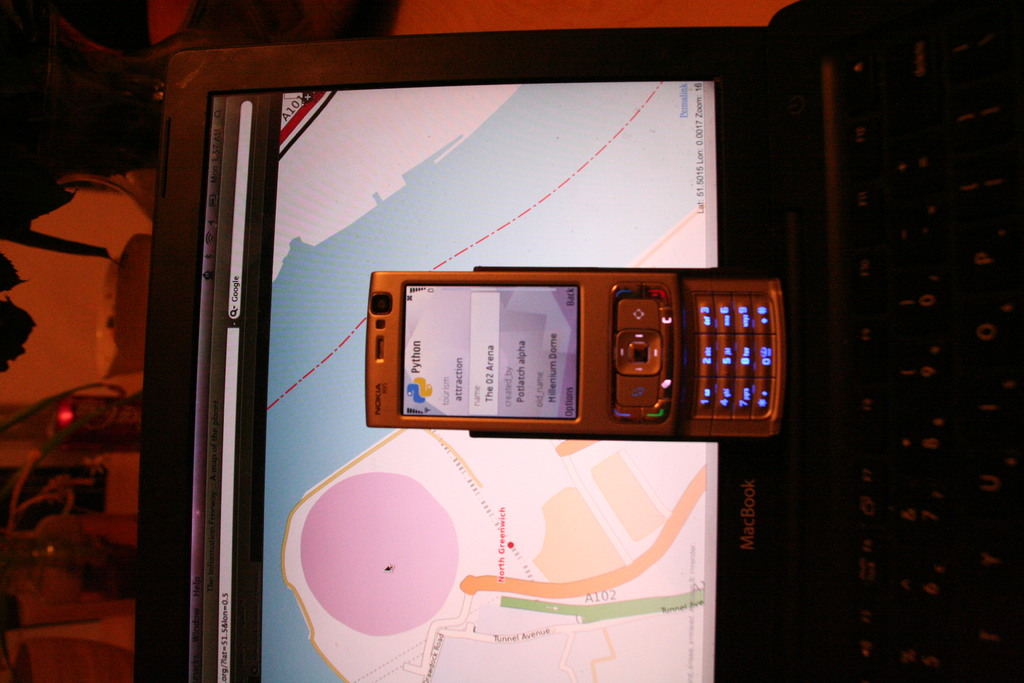mobile phone: (364, 269, 775, 451)
